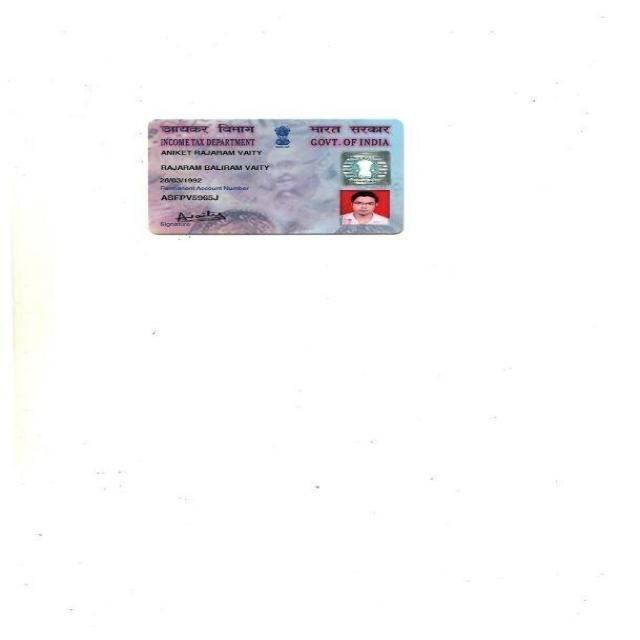pan_card: (142, 119, 406, 235)
